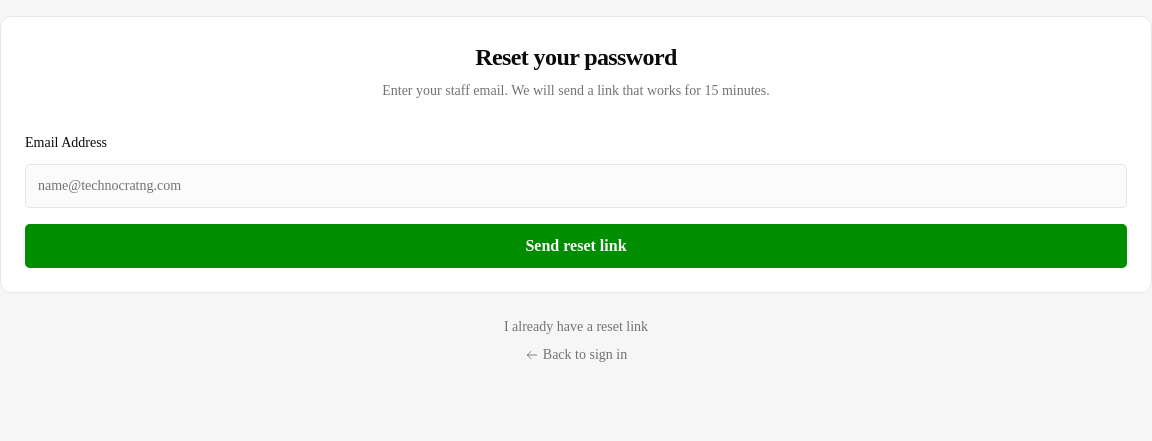
Test: forgot password › sends the trimmed email and says where the link went
In the field labelled "Email Address": (576, 186) [25,164,1127,208], type "  ada@technocratng.com "
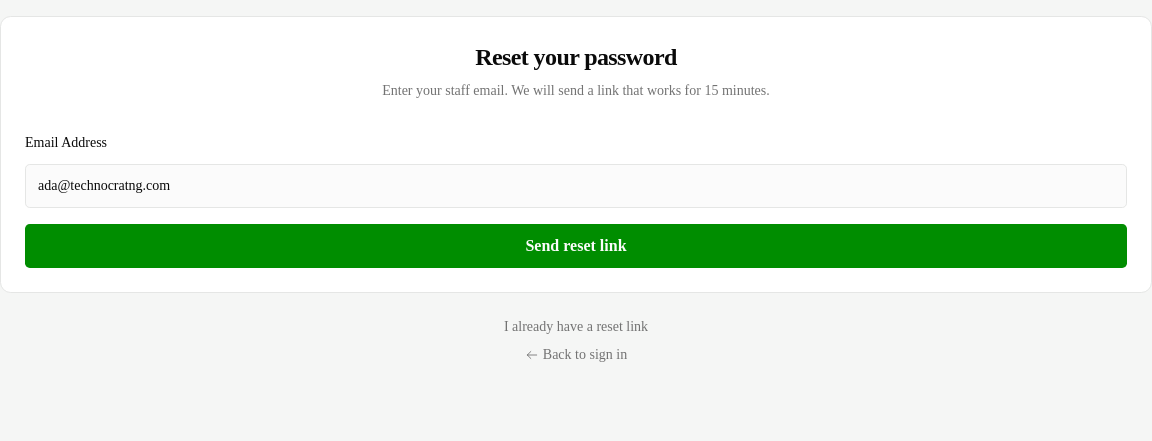
Click the button "Send reset link": (576, 246) [25,224,1127,268]
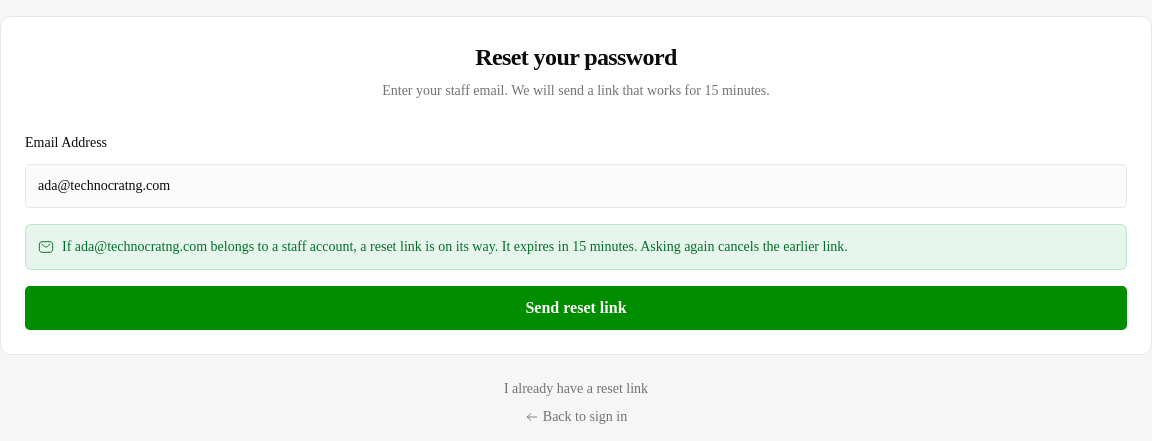
Expected: the message shows "ada@technocratng.com", [75,239,207,254]
Expected: the message shows "15 minutes", [207,239,848,254]
